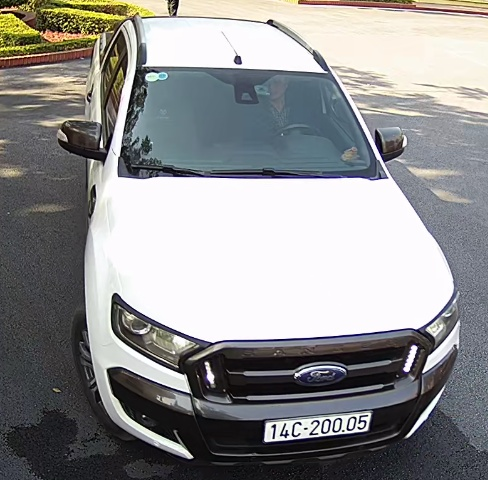vehicle plate: (260, 412, 379, 441)
